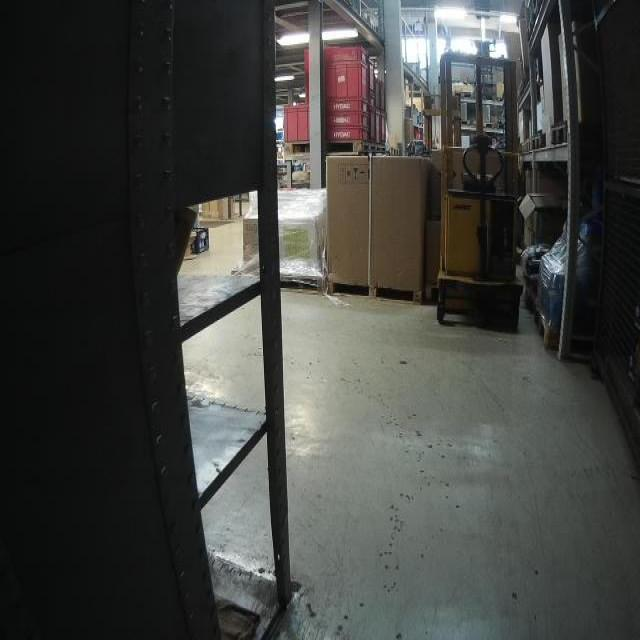pallet: (534, 299, 598, 359), (326, 280, 422, 306), (550, 121, 608, 149), (273, 269, 327, 297), (285, 139, 376, 155), (535, 131, 549, 154), (482, 119, 506, 131), (452, 89, 475, 101), (457, 118, 475, 127), (375, 144, 386, 154), (392, 146, 400, 157)
pallet_truck: (440, 52, 522, 334)
